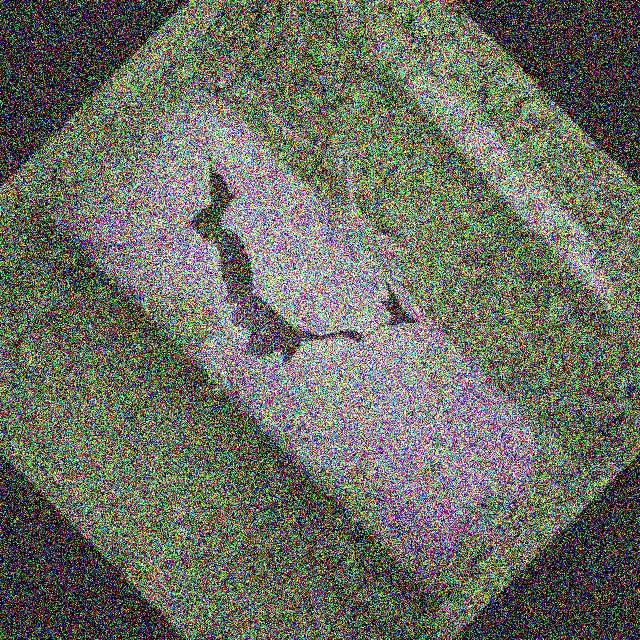Hole: (190, 165, 429, 393)
